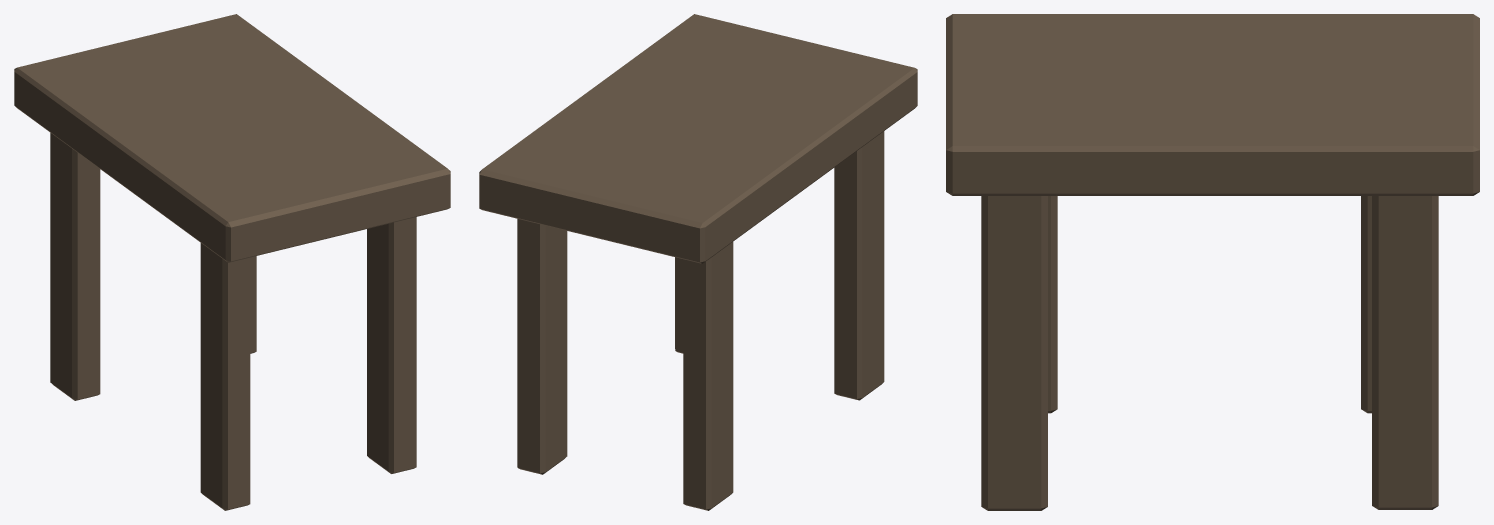
File: nightstand.fbx
3 renders of one model, left to right at view 1: azimuth 30°, elevation 25°; view 2: azimuth 150°, elevation 25°; view 3: azimuth 270°, elevation 25°, orthographic. The views are drawn at different scales.
Parts seen in each view (by area): view 1: nightstand; view 2: nightstand; view 3: nightstand.
Part boxes in pixels (bbox=[...]): nightstand: bbox=[14, 14, 450, 510]; nightstand: bbox=[479, 14, 917, 510]; nightstand: bbox=[946, 14, 1479, 510].
Bounding box in the file's own units: 24 × 31.15 × 40.
